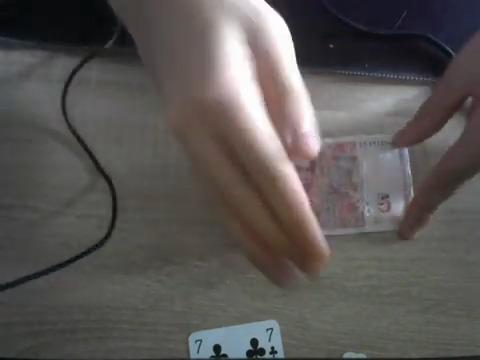5leva: (309, 69, 417, 236), (307, 136, 408, 236)
